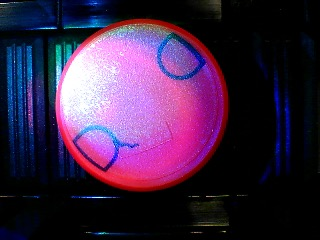CRACK: (55, 18, 229, 191)
